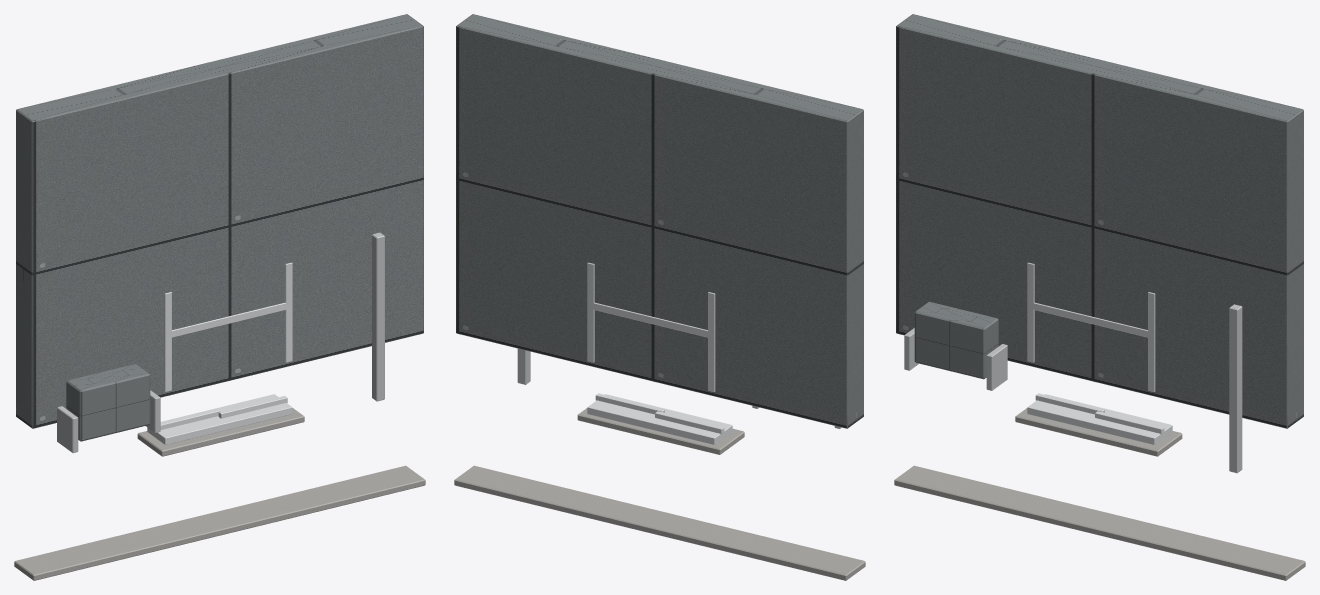
File: japanese-school-and-city-street-upper-floor-wall-plain-c2150d30__30061.glb
The picture shows the model from 3 angles, left to right: view 1: azimuth 30°, elevation 25°; view 2: azimuth 150°, elevation 25°; view 3: azimuth 330°, elevation 25°; orthographic projection.
Parts seen in each view (by area): view 1: upper-floor-wall-plain; view 2: upper-floor-wall-plain; view 3: upper-floor-wall-plain.
Boxes of the visible parts, x1,y1,x2,y2 form: upper-floor-wall-plain: [14, 14, 425, 580]; upper-floor-wall-plain: [454, 14, 865, 580]; upper-floor-wall-plain: [894, 14, 1305, 580].
Bounding box in the file's own units: 4 × 4.47 × 0.63.
Materials: 5 (2 with a texture image).
